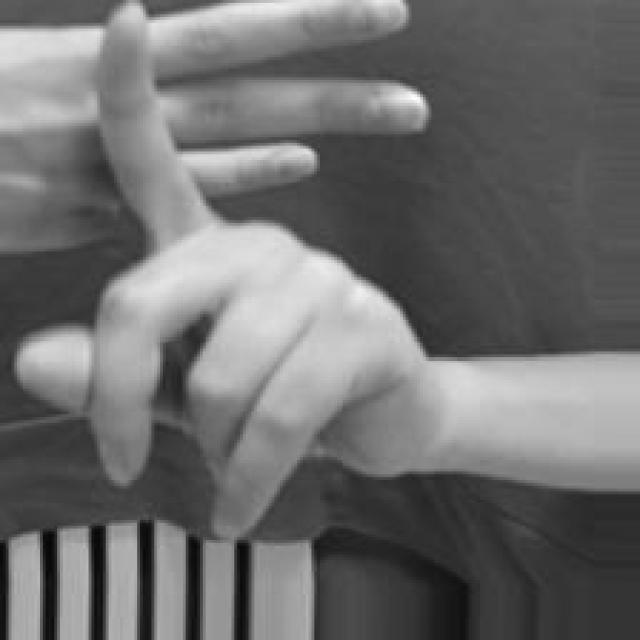E: (1, 3, 488, 552)
